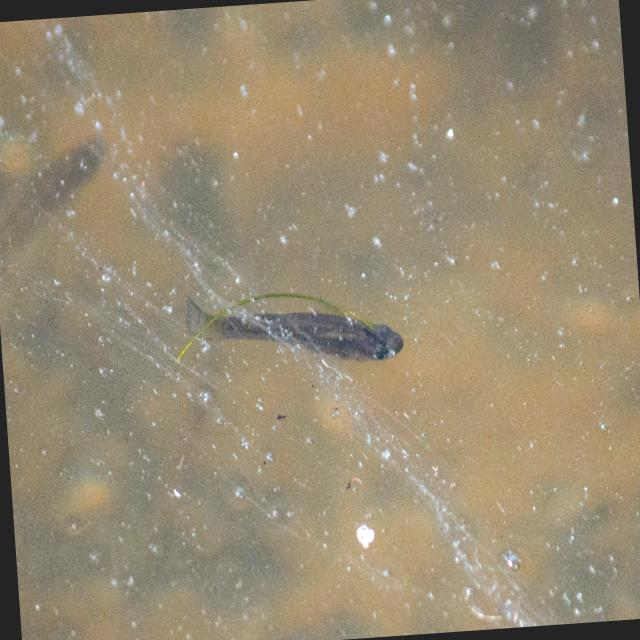Sivrisinek Baligi: (181, 278, 406, 377)
